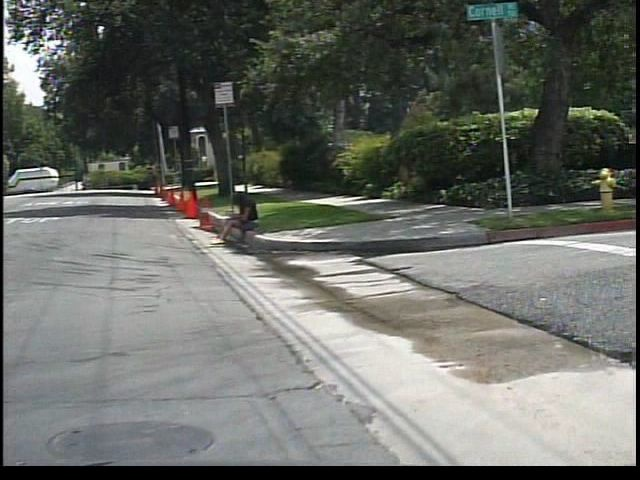person: (216, 190, 273, 247)
